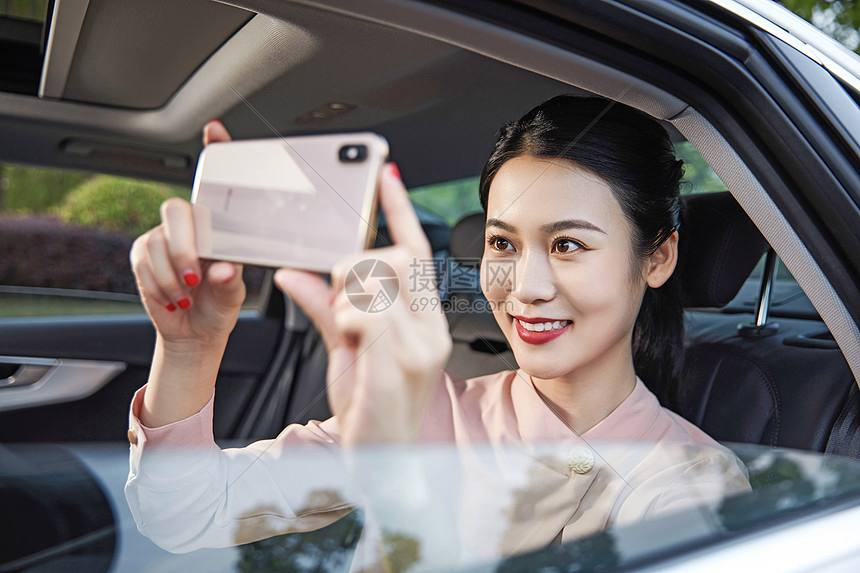taking photos: (124, 113, 456, 442)
